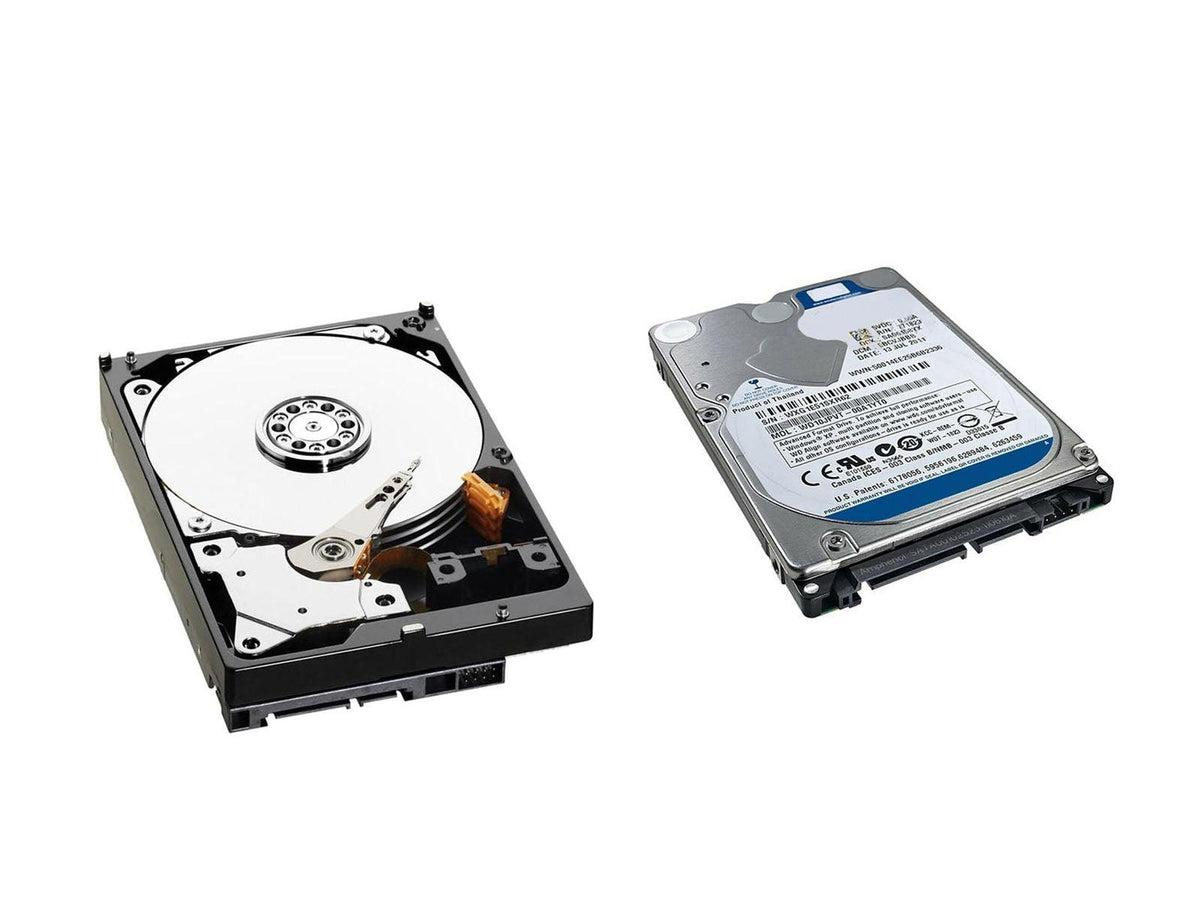internal HDD: (645, 267, 1115, 621)
